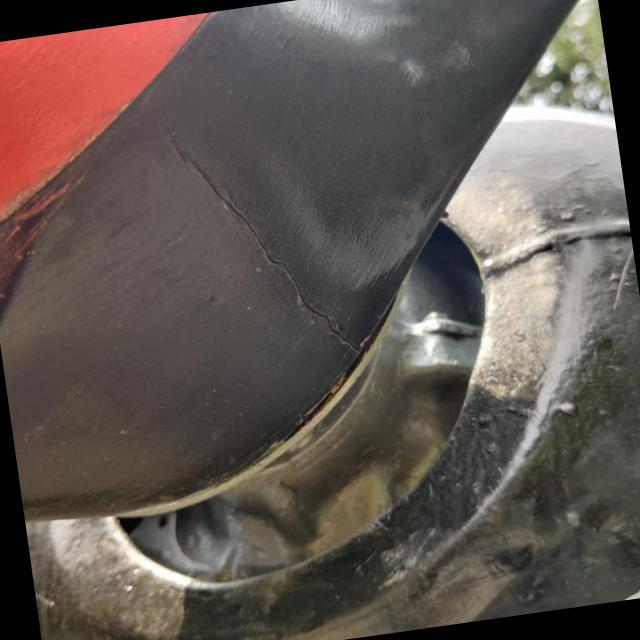Crack: (242, 196, 370, 362)
